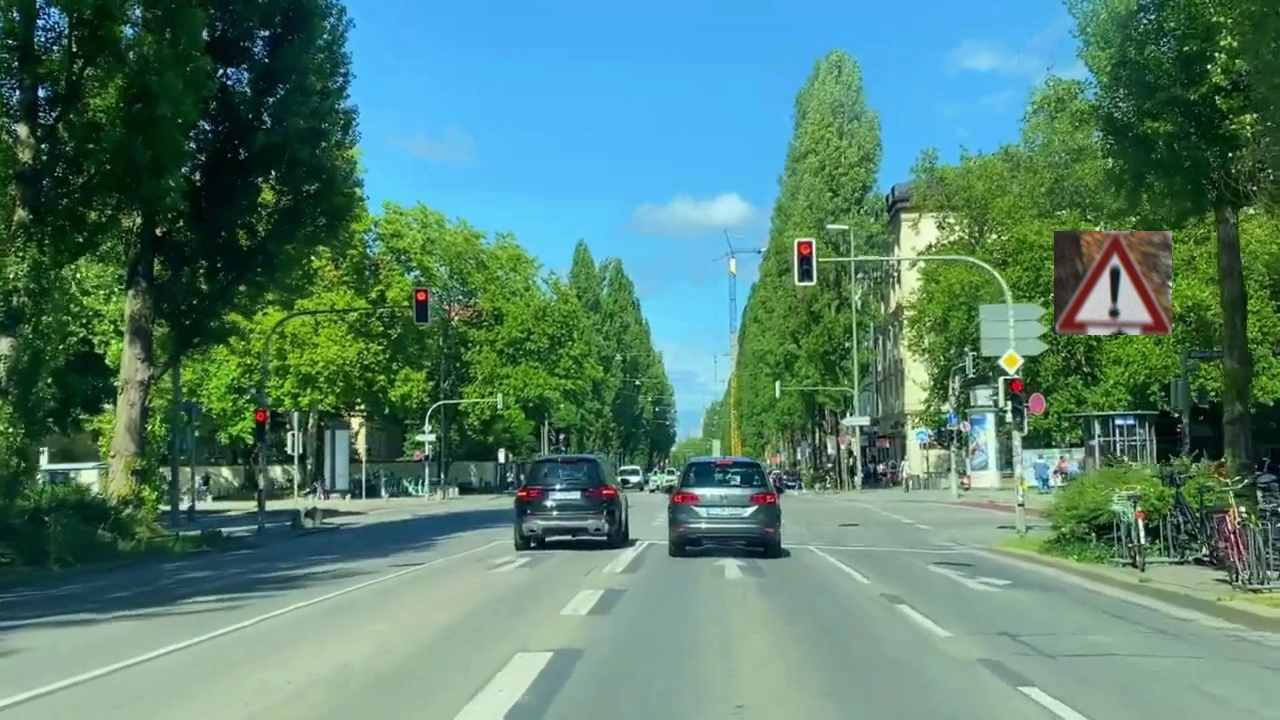Caution: (1054, 231, 1172, 335)
